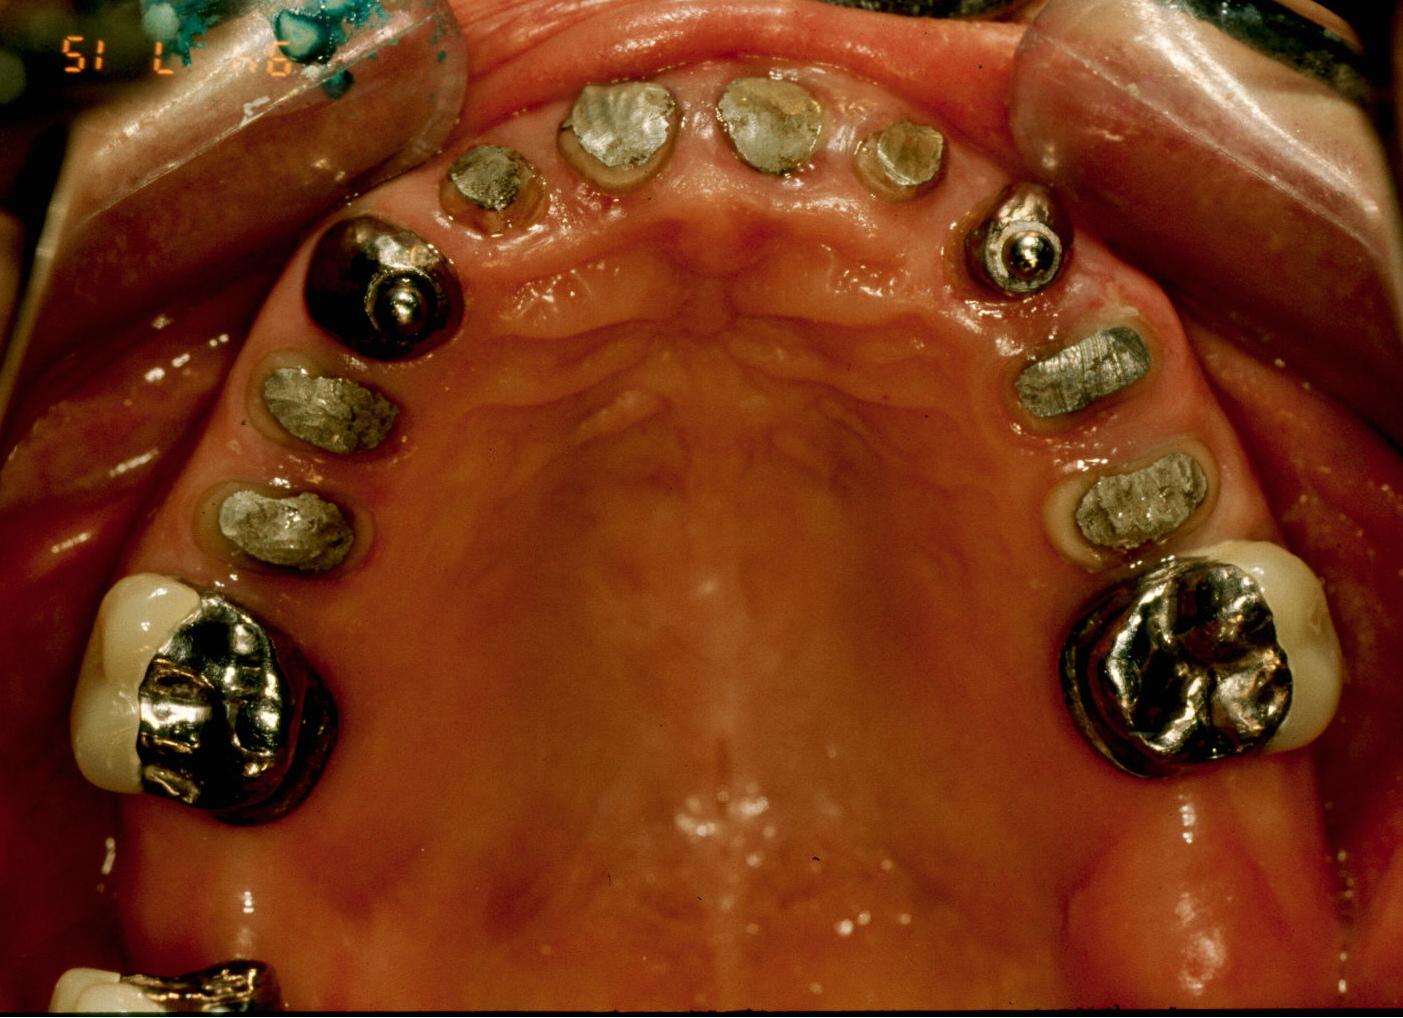UL1BC_decay: (1005, 324, 1166, 429)
UL1M_decay: (1072, 571, 1352, 756)
UL2BC_decay: (1029, 436, 1219, 541)
ULCI_decay: (710, 68, 838, 183)
ULC_decay: (969, 197, 1067, 295)
ULLI_decay: (847, 113, 954, 195)
UR1BC_decay: (278, 354, 410, 480)
UR1M_decay: (64, 601, 337, 801)
UR2BC_decay: (196, 483, 373, 589)
URCI_decay: (563, 91, 682, 186)
URC_decay: (298, 216, 463, 361)
URLI_decay: (443, 154, 546, 238)
